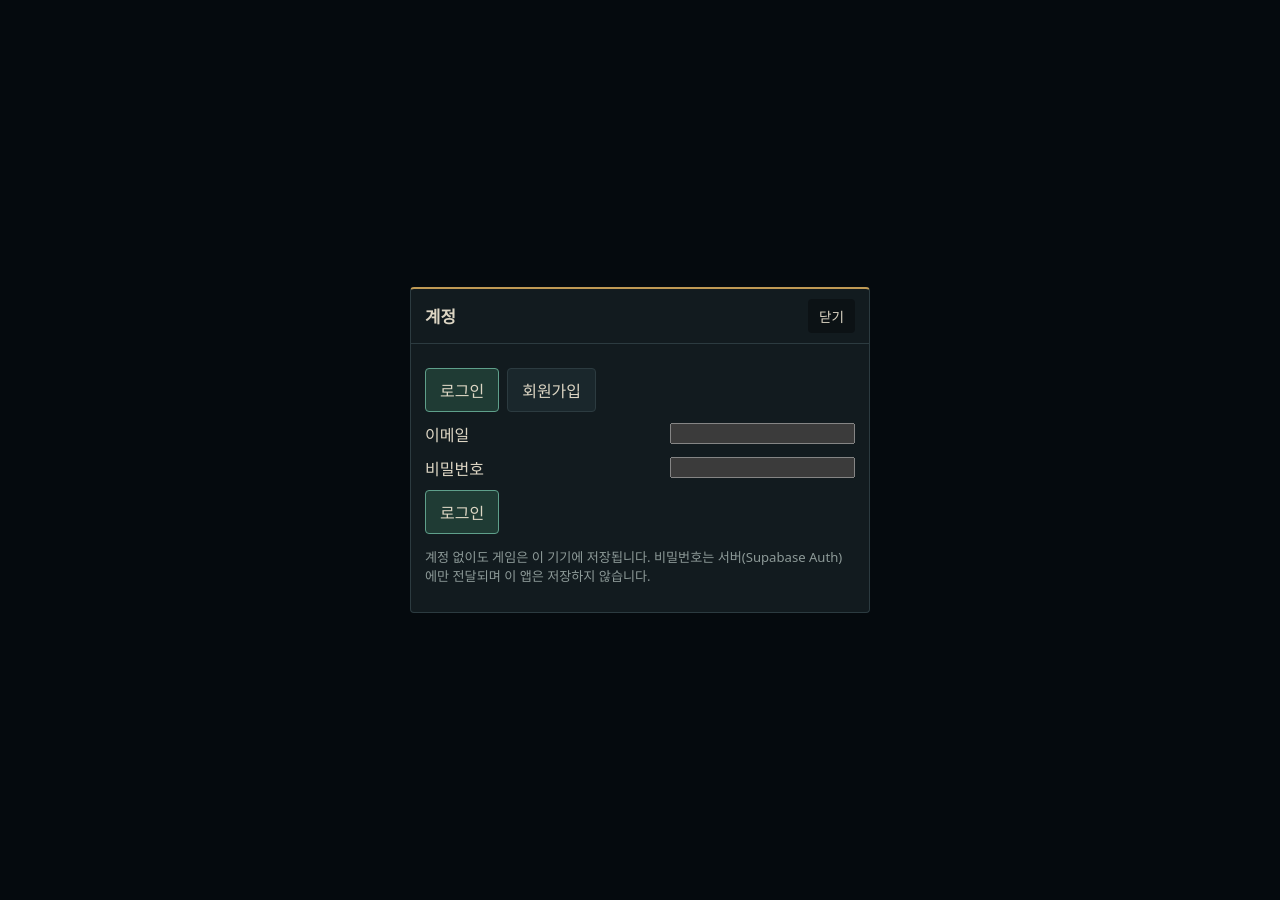
Scenario: 계정 패널 › 틀린 비밀번호는 서버 오류 문구를 보여 주되 비밀번호 입력은 비워진다
The image size is (1280, 900).
Step 1. Type "a@example.com" into the field with test id "acc-email" → {"x": 762, "y": 434}, box [670,423,855,444]
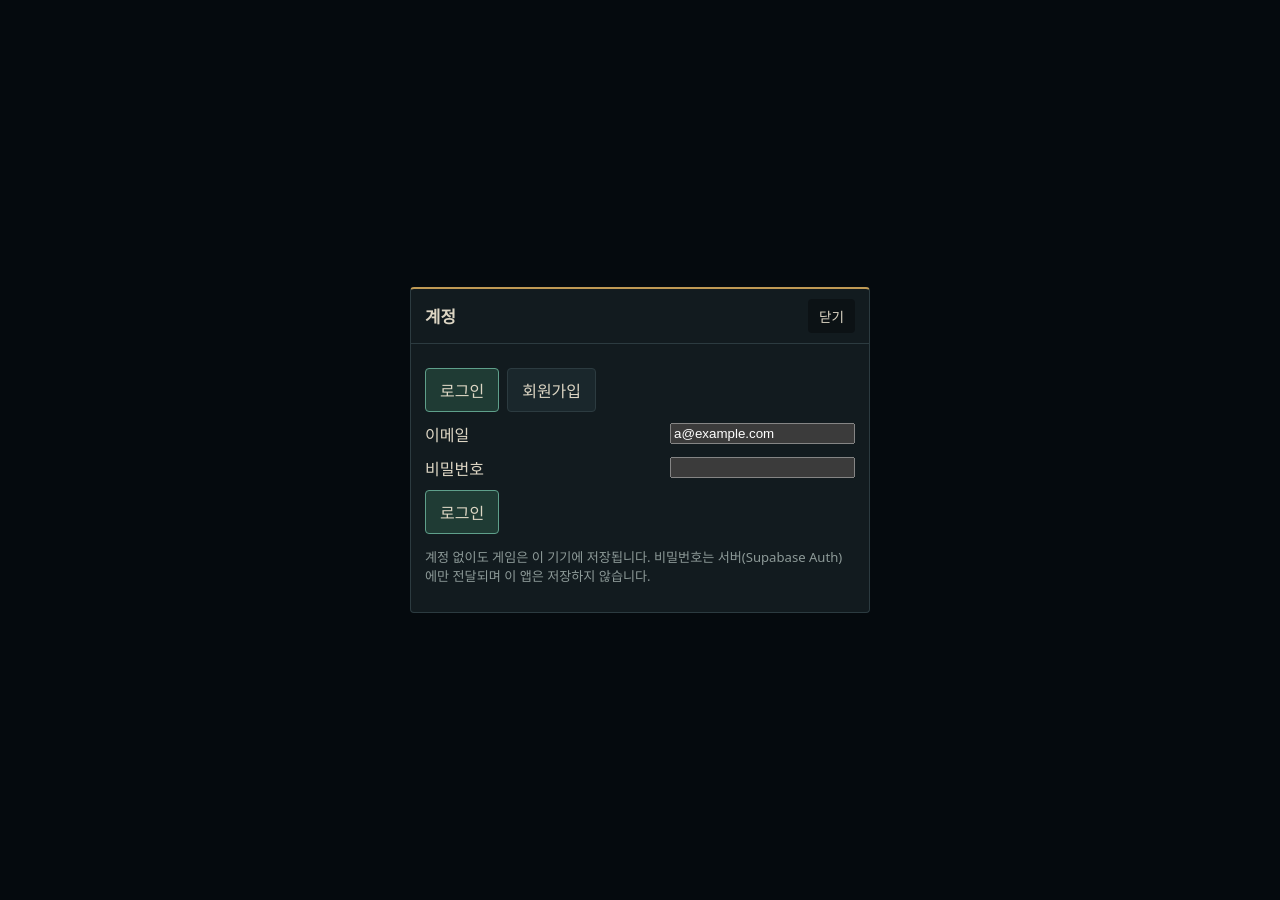
Step 2. Type "wrong-password" into the password field with test id "acc-pw" → {"x": 762, "y": 468}, box [670,457,855,478]
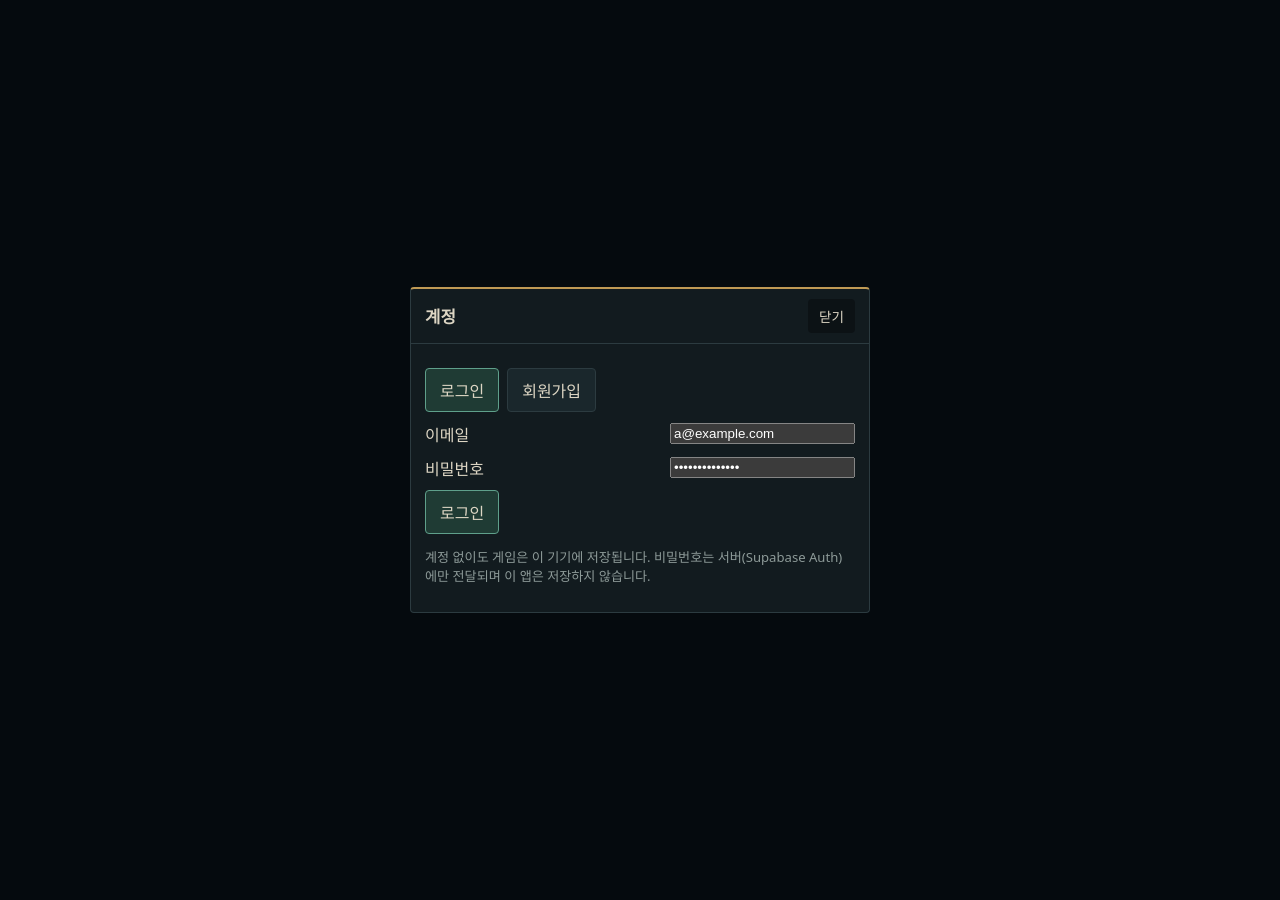
Step 3. Click the button with test id "acc-submit" → {"x": 462, "y": 512}, box [425,490,499,534]
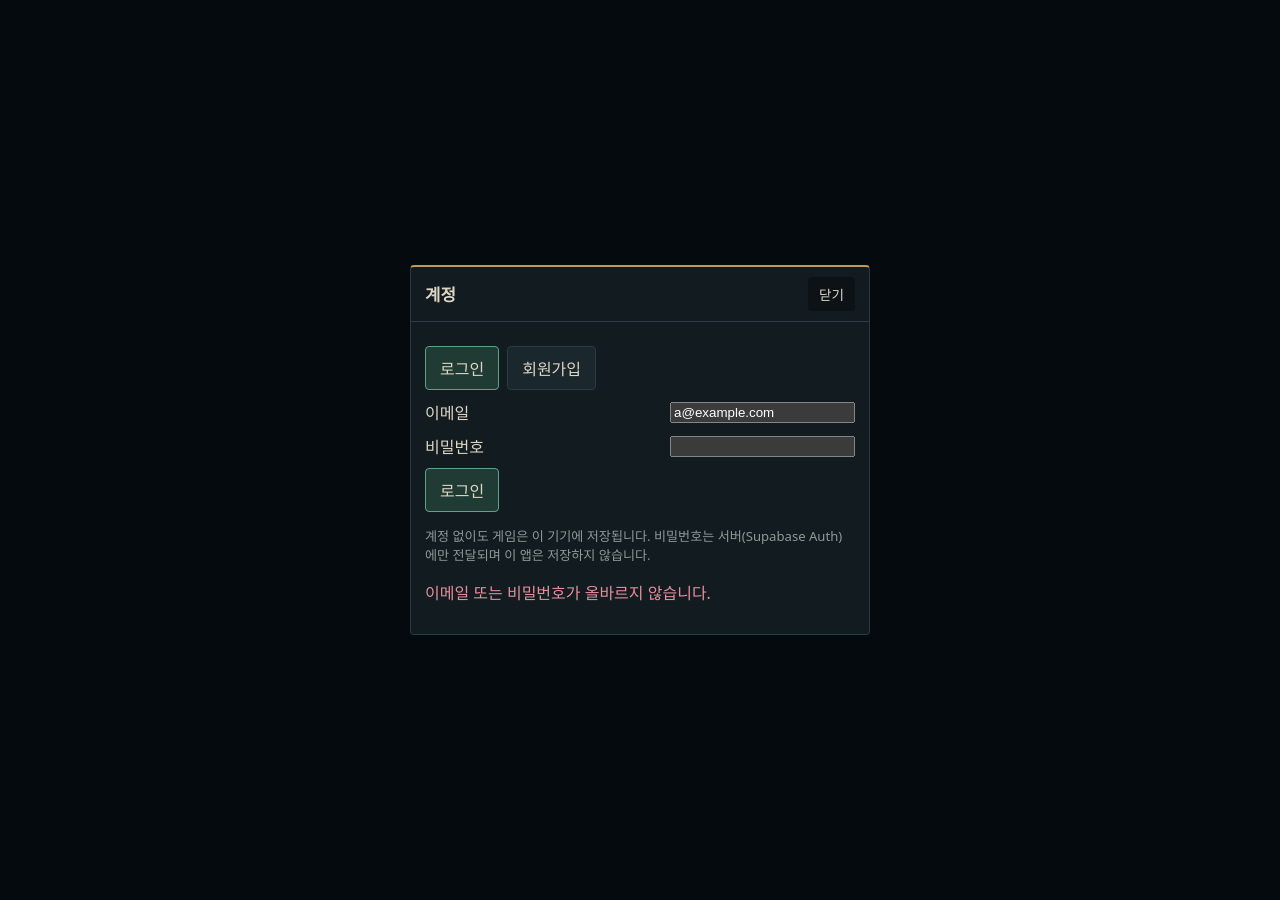
Now the message with test id "acc-error" shows "올바르지", box [425,582,711,604]
Now the password field with test id "acc-pw" is empty, box [670,436,855,457]
